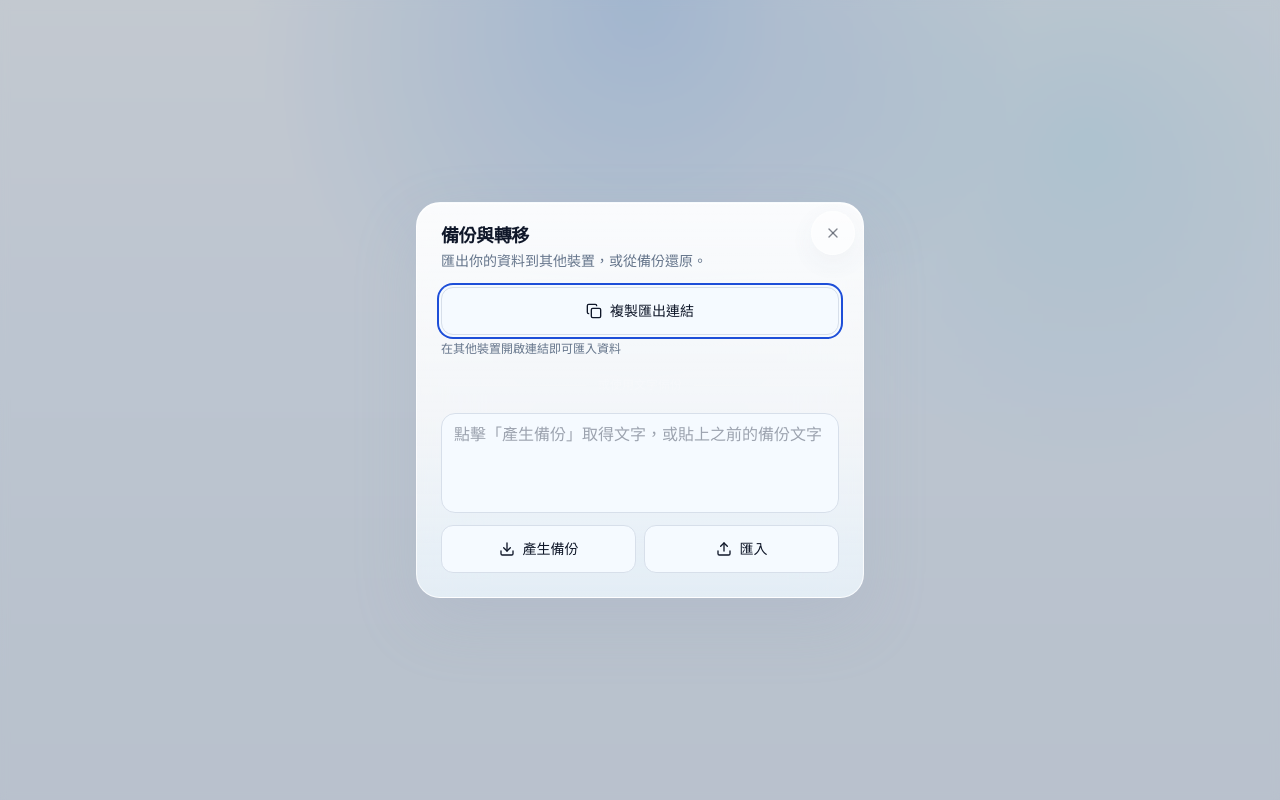
Test case: BackupDialog › should fill textarea with compressed backup on export
The width and height of the screenshot is (1280, 800).
Click the button "產生備份" at coordinates (538, 549), box [441,525,636,573]
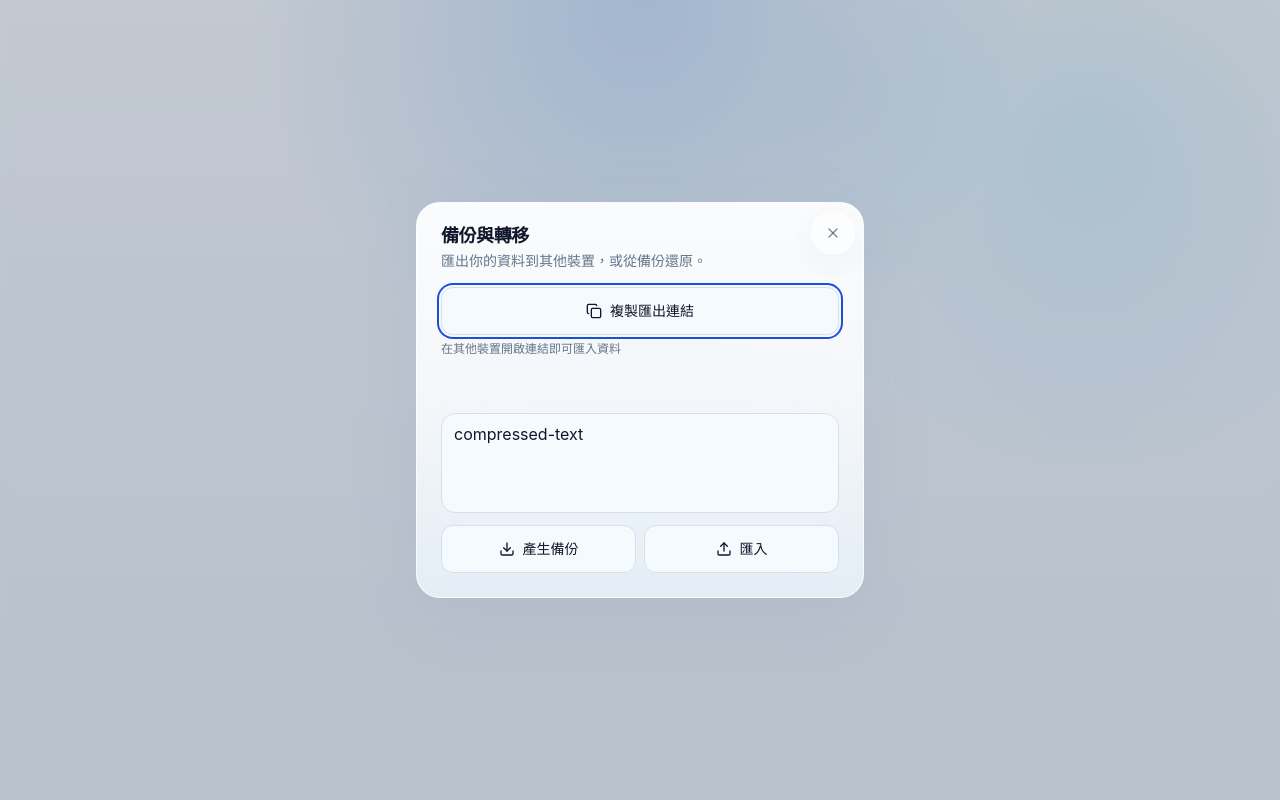
Result: the text box named "備份文字" holds "compressed-text" at [441,413,839,513]
